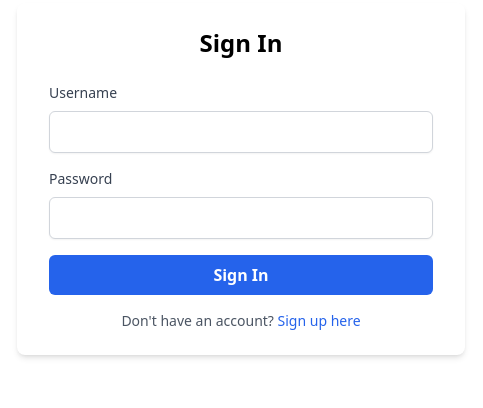
Test: Signin Component › shows error message on failed login
# Fill and submit form
Type "testuser" into the field labelled "Username" at (241, 132), box 49,111 -> 433,153
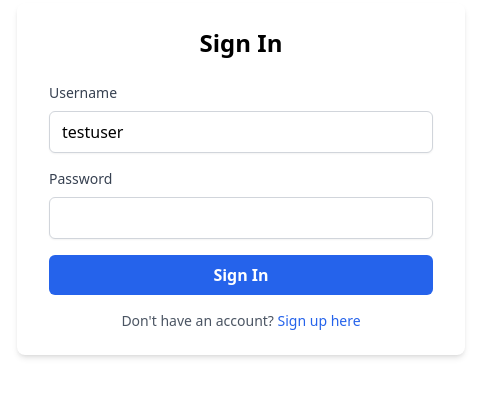
Type "wrongpassword" into the password field labelled "Password" at (241, 218), box 49,197 -> 433,239
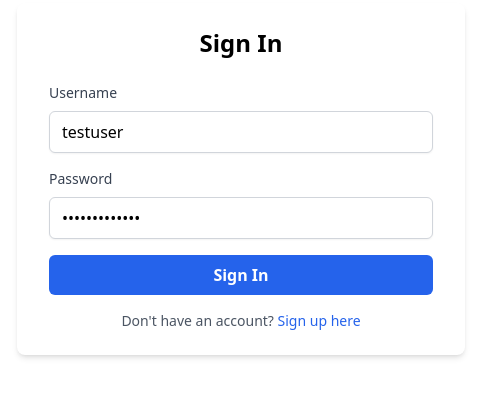
Click the button "Sign In" at (241, 275), box 49,255 -> 433,295
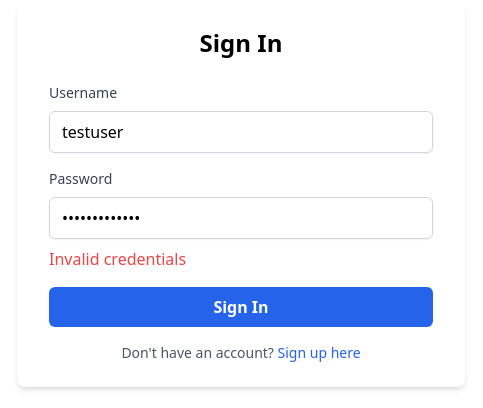
Check: the text "Invalid credentials" is shown, box 49,248 -> 186,270
